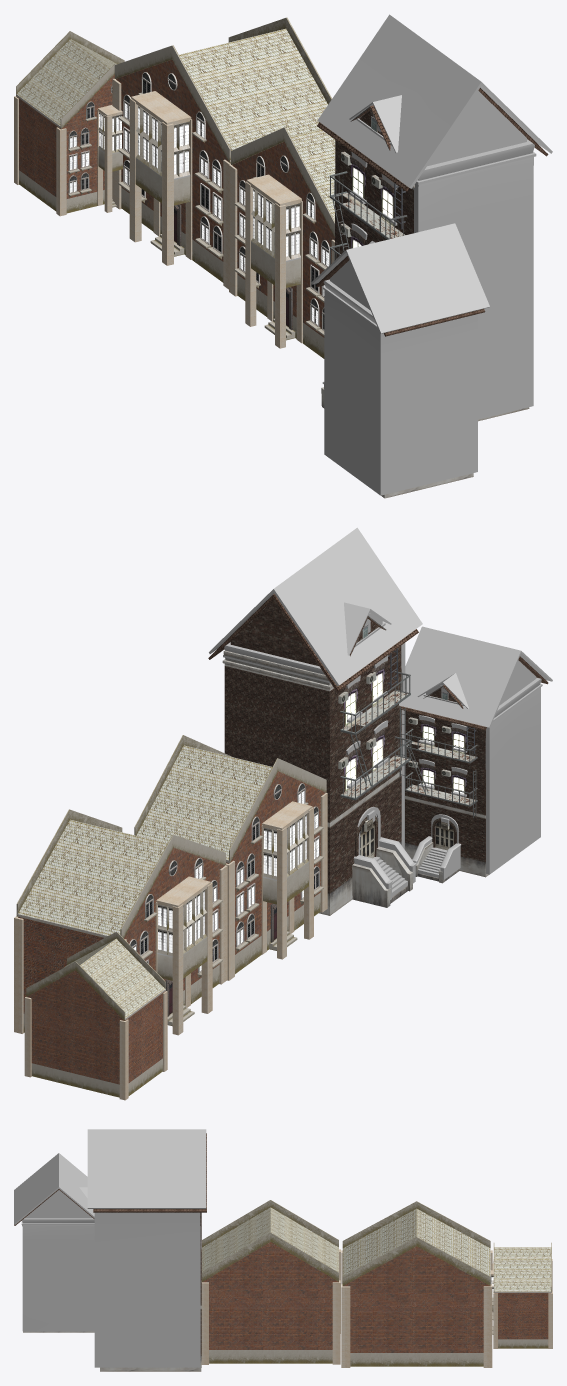
File: Building02.fbx
3 renders of one model, top to bottom at view 1: azimuth 30°, elevation 25°; view 2: azimuth 150°, elevation 25°; view 3: azimuth 270°, elevation 25°, orthographic. The views are drawn at different scales.
Parts seen in each view (by area): view 1: MeshBaker__3__mesh_mesh; view 2: MeshBaker__3__mesh_mesh; view 3: MeshBaker__3__mesh_mesh.
Part boxes in pixels (x1,y1,x2,y2): MeshBaker__3__mesh_mesh: (14, 14, 552, 498); MeshBaker__3__mesh_mesh: (14, 527, 552, 1100); MeshBaker__3__mesh_mesh: (14, 1129, 552, 1371).
Size of the model in its own units: 2147 by 3118 by 6796.
